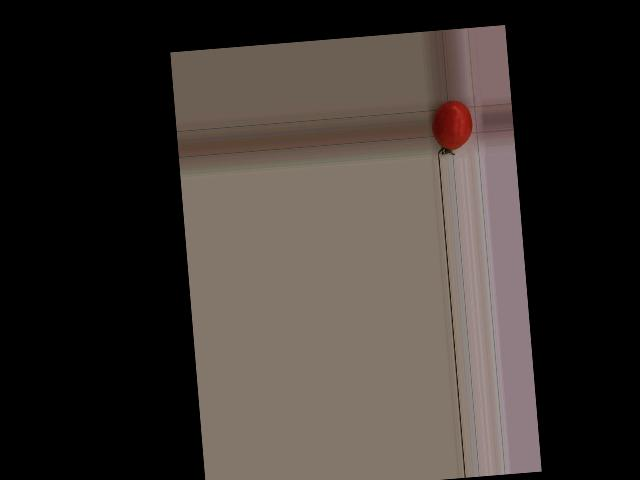tomato: (430, 99, 474, 151)
